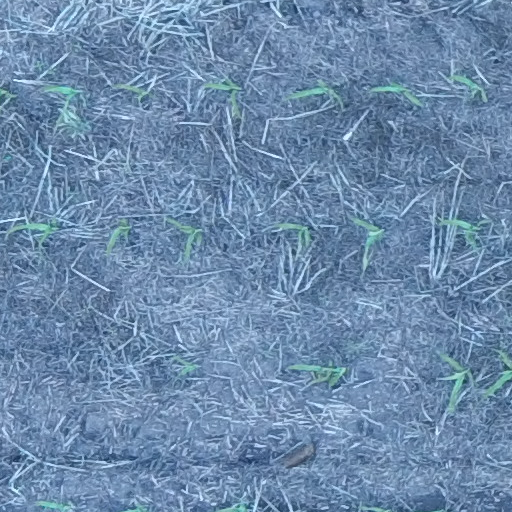planta: (439, 352, 478, 414), (436, 214, 488, 250), (165, 217, 203, 262), (10, 218, 60, 249), (43, 85, 82, 124), (369, 79, 422, 106), (204, 77, 241, 115), (285, 81, 342, 104), (447, 73, 489, 104), (350, 216, 384, 252), (287, 363, 338, 384), (274, 221, 312, 249), (105, 218, 131, 252), (109, 82, 150, 100), (171, 354, 197, 378), (321, 366, 348, 387)
